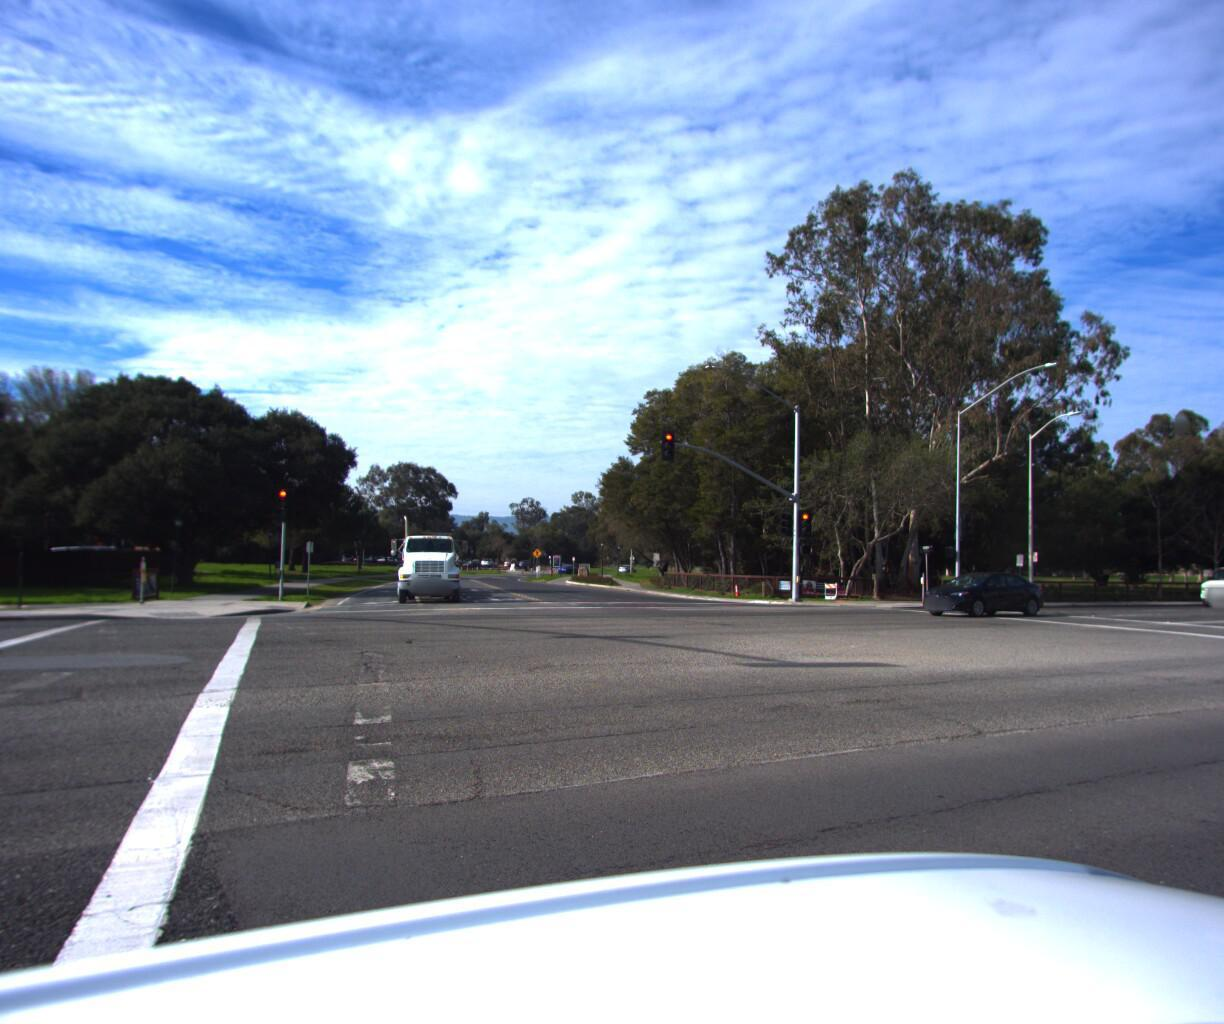car: (900, 564, 1053, 614), (1190, 559, 1224, 603)
truck: (389, 520, 468, 616)
